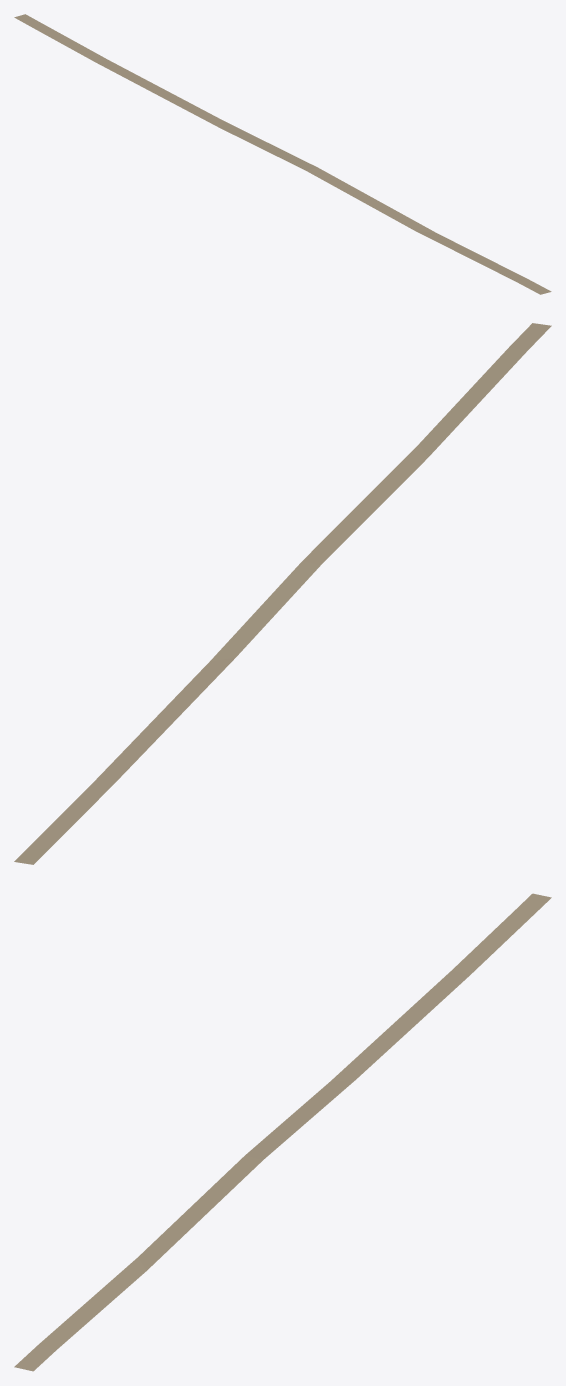
The model's file is farm_12_19_track.glb.
The picture shows the model from 3 angles, top to bottom: view 1: azimuth 30°, elevation 25°; view 2: azimuth 150°, elevation 25°; view 3: azimuth 330°, elevation 25°; orthographic projection. The views are drawn at different scales.
Visible parts, largest first — view 1: geometry_0; view 2: geometry_0; view 3: geometry_0.
Part boxes in pixels (x1,y1,x2,y2): geometry_0: (14,14,551,294); geometry_0: (14,323,551,864); geometry_0: (14,893,551,1371).
Bounding box in the file's own units: 26.47 × 5.68 × 201.
